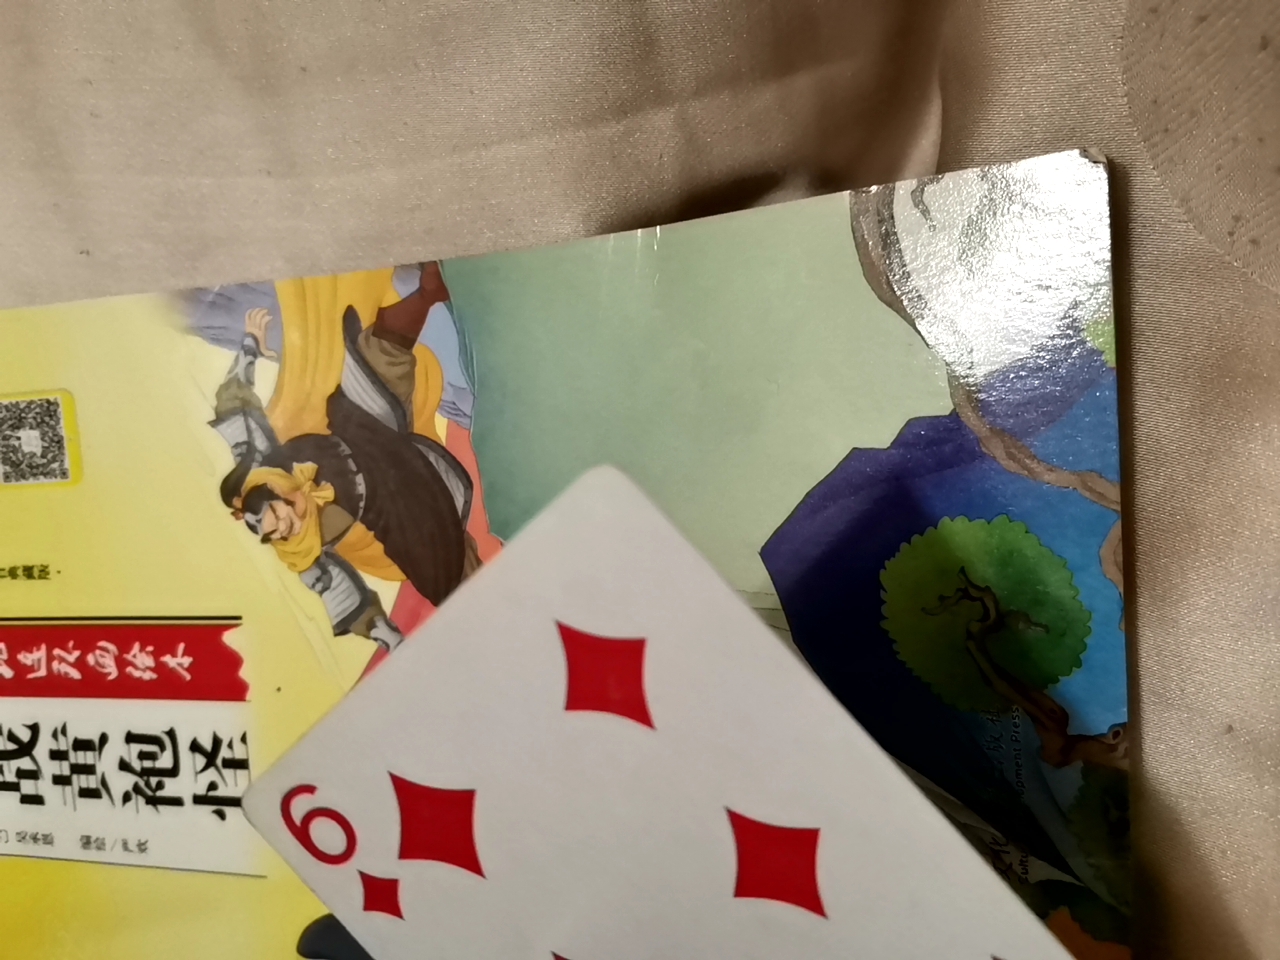fk 6: (283, 486, 1020, 959)
